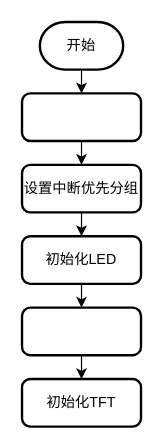
Some shapes in this 162 by 447 pixel diagram are drawn without their labels. The centre of each missing label's shape, as x and y in pixels:
"初始化USART" goes at (x=81, y=331).
"初始化系统时钟" goes at (x=81, y=117).
